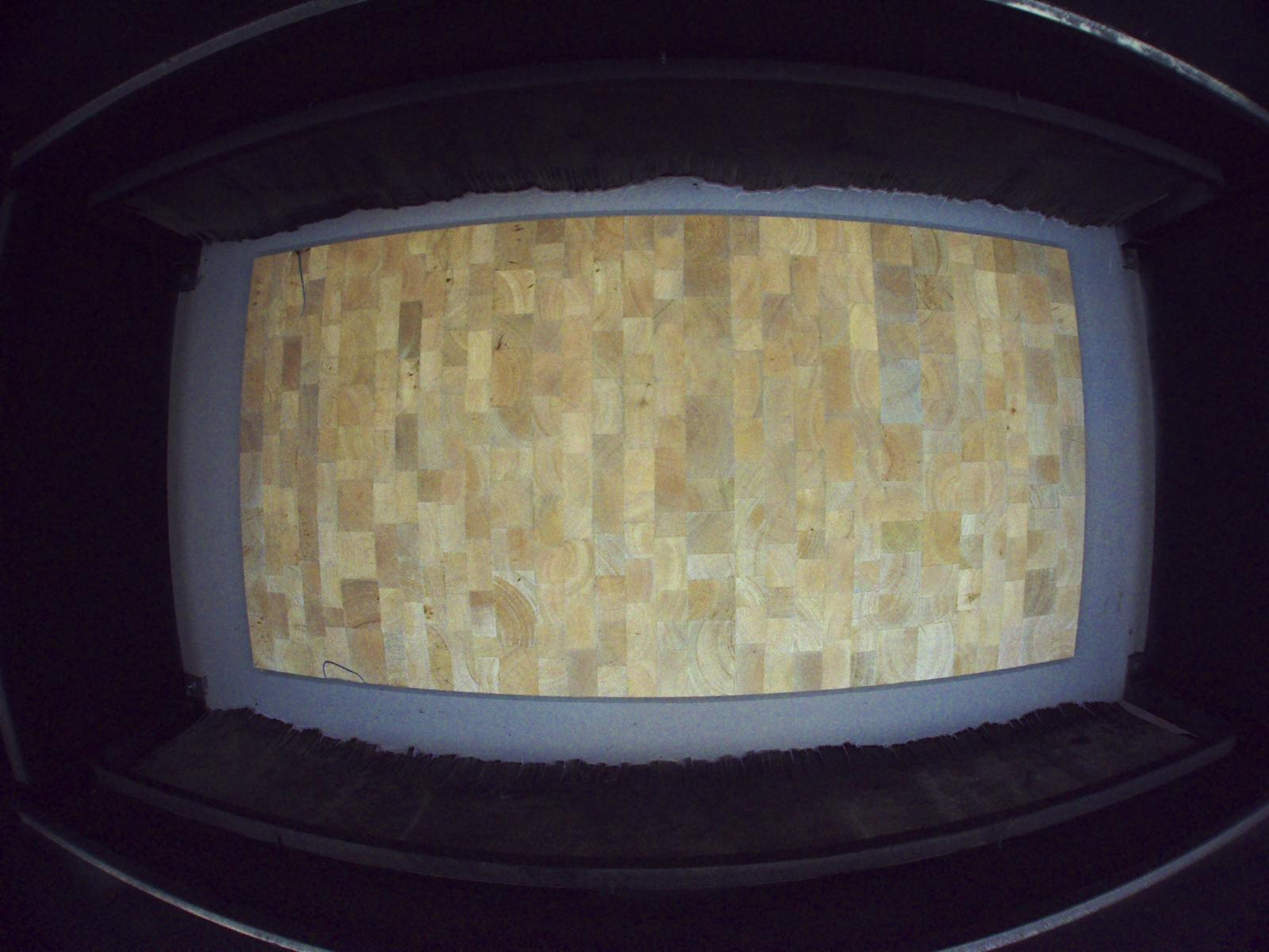nudillo: (292, 245, 312, 255)
